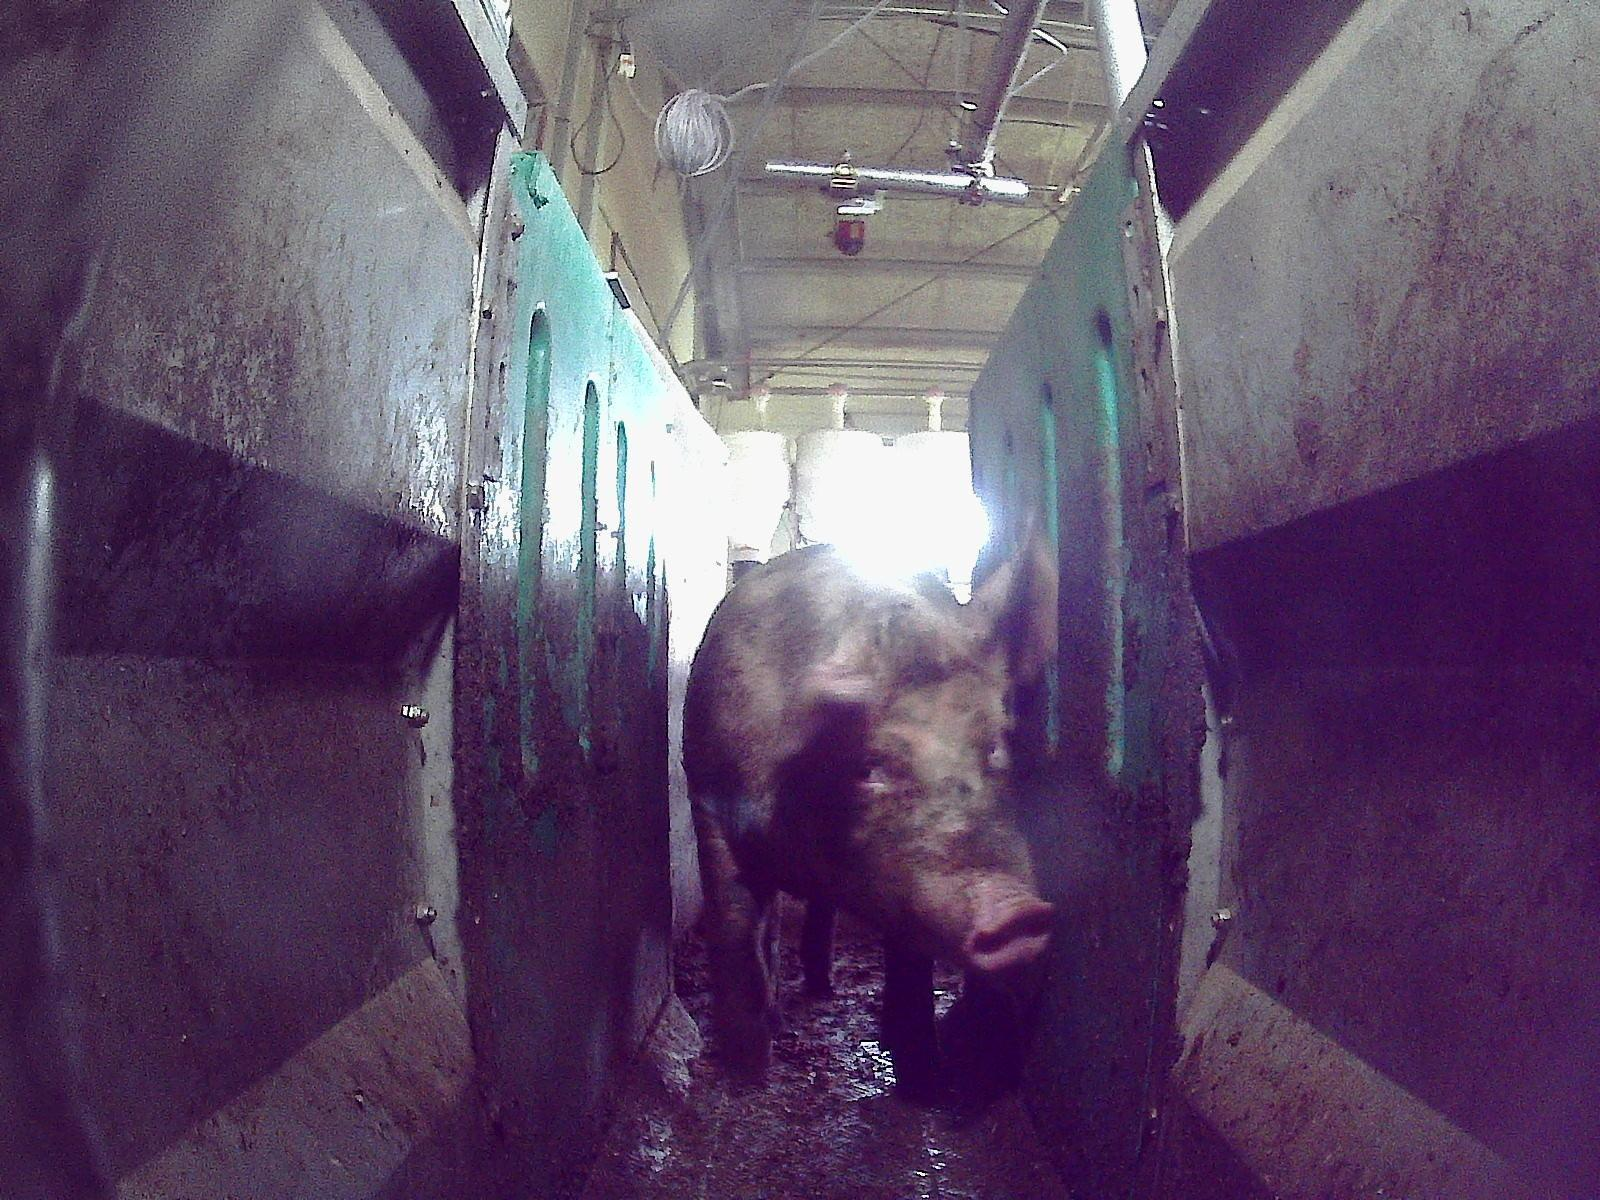Face: (807, 650, 1055, 970)
